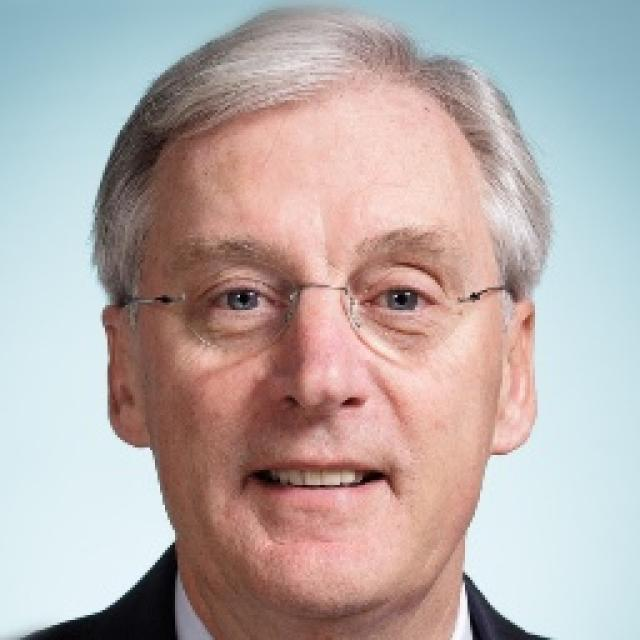glasses: (115, 250, 518, 383)
